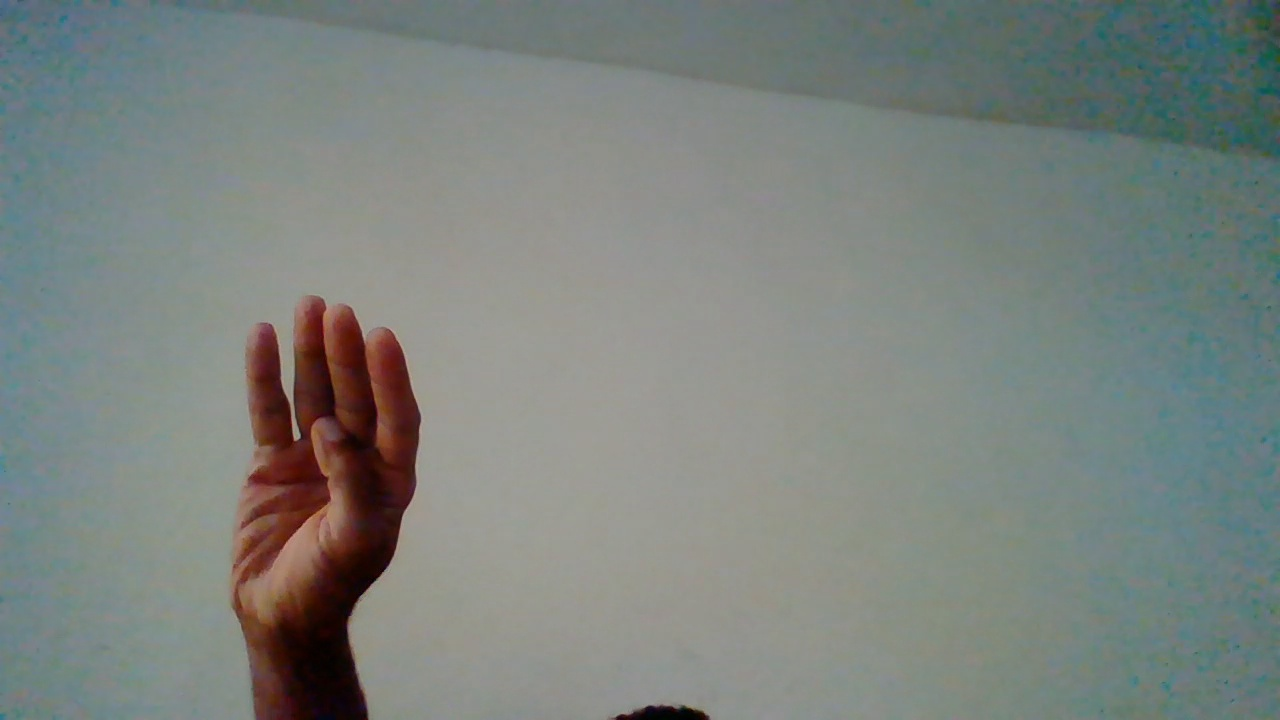me: (229, 289, 420, 711)
